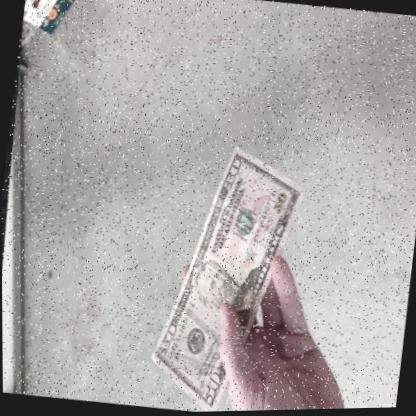fifty-front: (148, 145, 306, 412)
